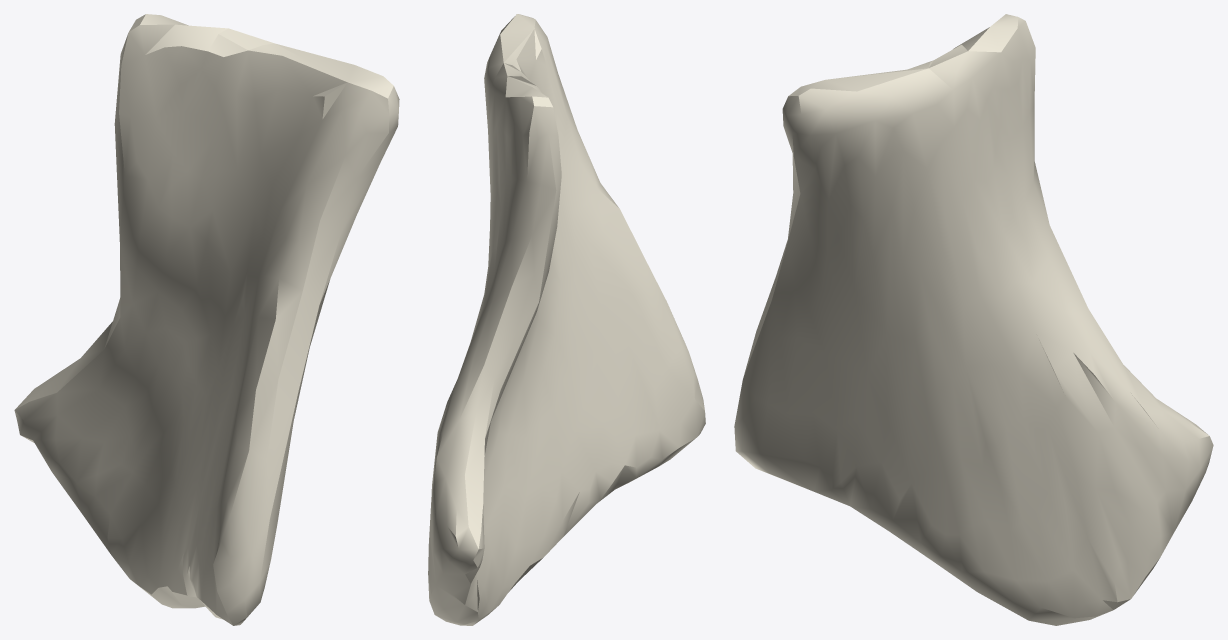
Rendered from fma44070_mm1364m.glb.
3 renders of one model, left to right at view 1: azimuth 30°, elevation 25°; view 2: azimuth 150°, elevation 25°; view 3: azimuth 270°, elevation 25°, orthographic. The views are drawn at different scales.
Parts seen in each view (by area): view 1: FMA44070_MM1364M; view 2: FMA44070_MM1364M; view 3: FMA44070_MM1364M.
Boxes of the visible parts, x1,y1,x2,y2 form: FMA44070_MM1364M: [14, 14, 399, 625]; FMA44070_MM1364M: [428, 14, 705, 625]; FMA44070_MM1364M: [734, 14, 1213, 625].
Bounding box in the file's own units: 0.00804 × 0.0231 × 0.0171.
